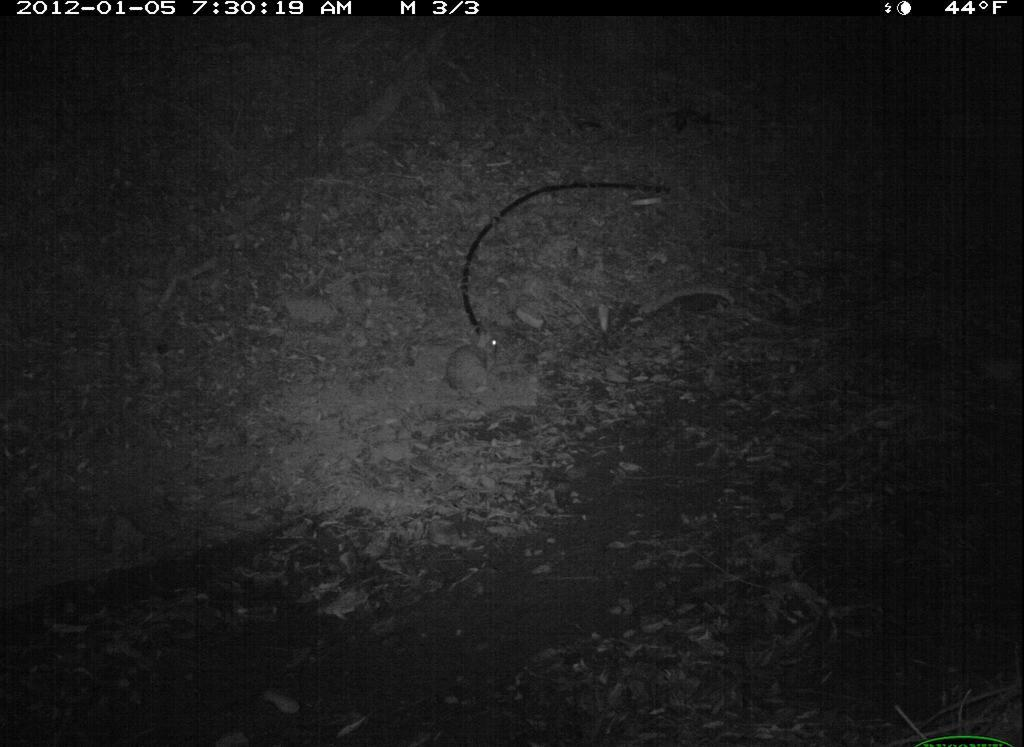rabbit: (439, 319, 516, 421)
